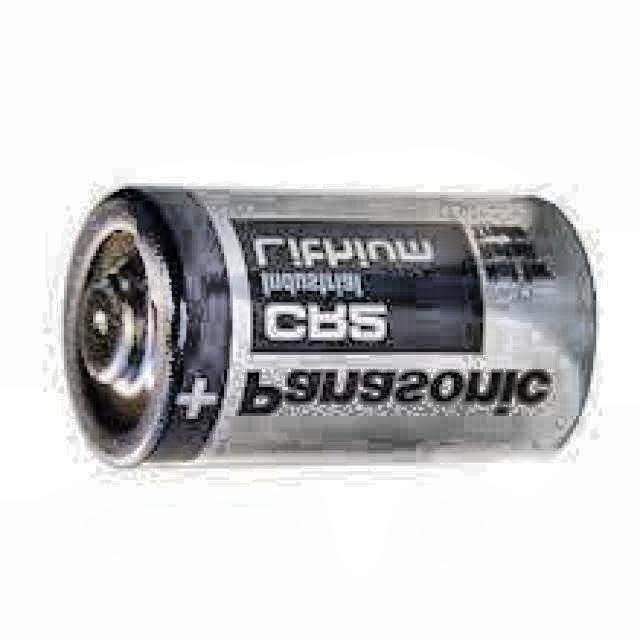battery: (62, 185, 596, 472)
